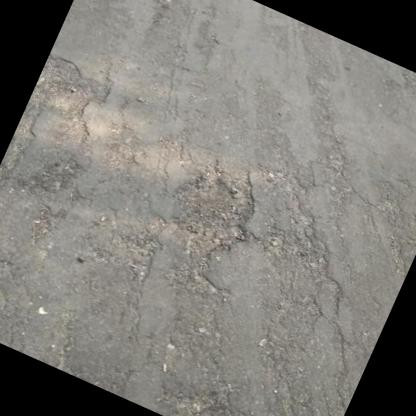pothole: (149, 151, 269, 270), (30, 47, 104, 120), (152, 372, 240, 416)
